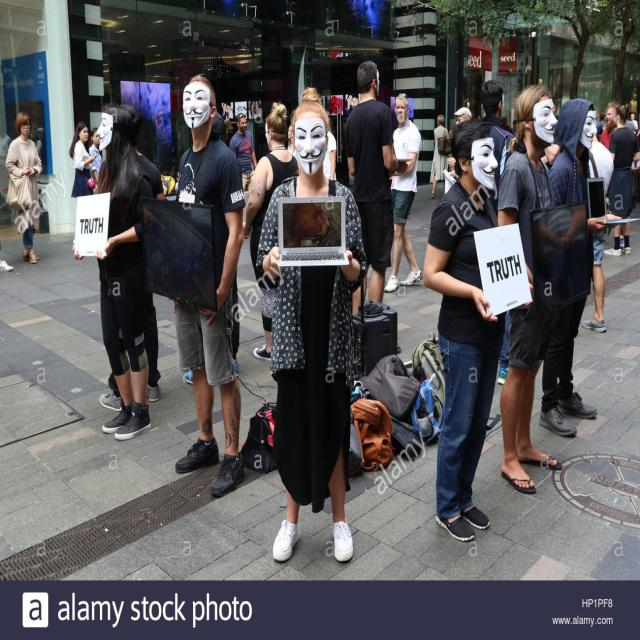body: (254, 84, 369, 566), (420, 116, 536, 545), (162, 71, 247, 504), (492, 80, 564, 498), (70, 101, 155, 445), (538, 97, 623, 440), (97, 101, 166, 415), (177, 110, 242, 393), (344, 59, 410, 317), (241, 101, 301, 362), (476, 81, 516, 386), (382, 91, 424, 294), (580, 134, 614, 333), (3, 107, 45, 268), (600, 103, 638, 259), (0, 103, 51, 176), (310, 111, 340, 198), (229, 112, 257, 195), (68, 121, 96, 198), (429, 114, 452, 199), (214, 94, 263, 124), (88, 126, 103, 195), (600, 102, 620, 150), (164, 164, 182, 199), (320, 94, 358, 110), (448, 118, 458, 172), (0, 244, 15, 278), (539, 145, 560, 166), (594, 111, 607, 144), (452, 106, 472, 126), (500, 116, 518, 134), (286, 123, 295, 155), (630, 88, 640, 111), (448, 117, 458, 139), (630, 112, 638, 130), (290, 131, 296, 154), (537, 76, 543, 85)
